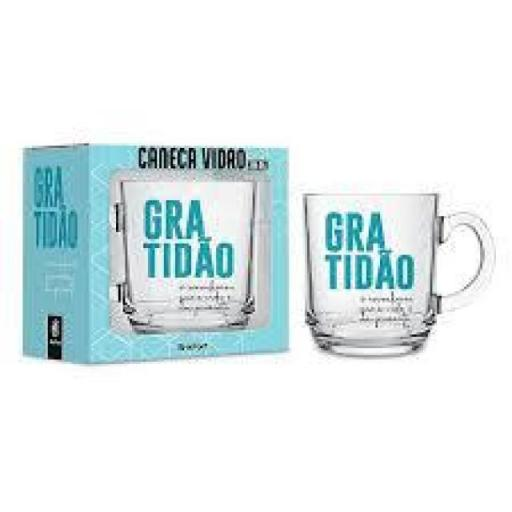glass: (290, 178, 502, 363)
